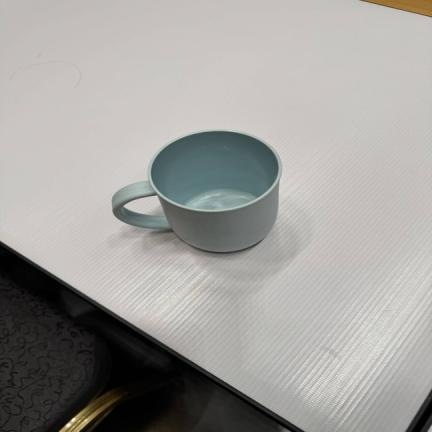cup: (112, 130, 281, 252)
